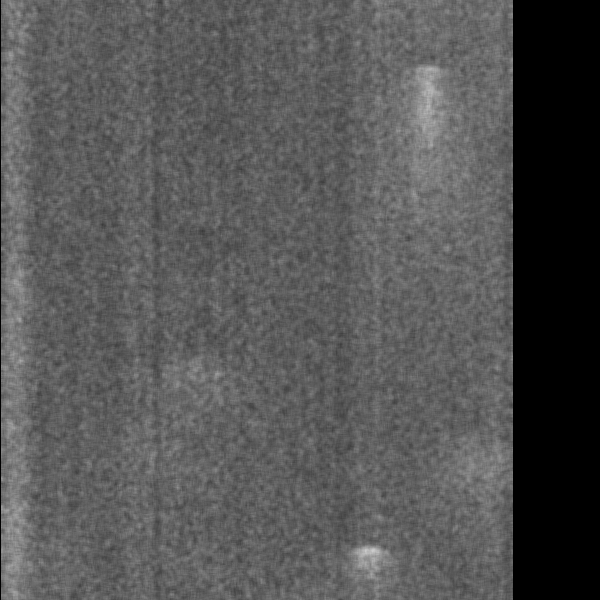spark: (82, 449, 116, 526), (191, 531, 237, 569)
